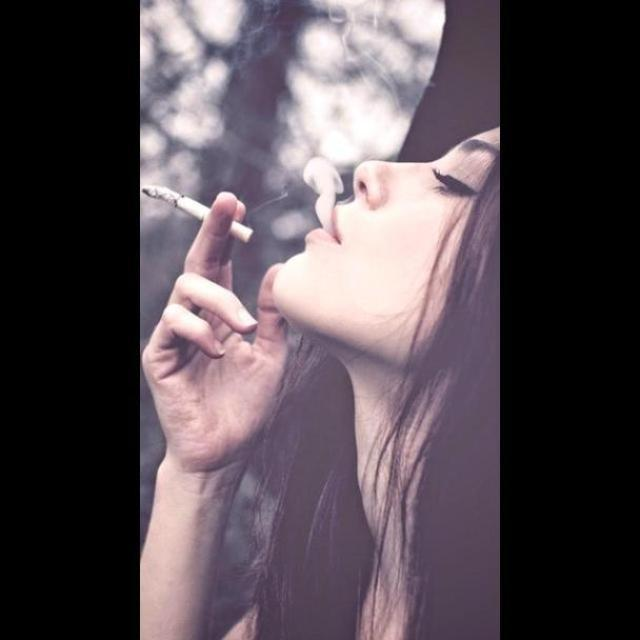rokok: (142, 177, 254, 245)
